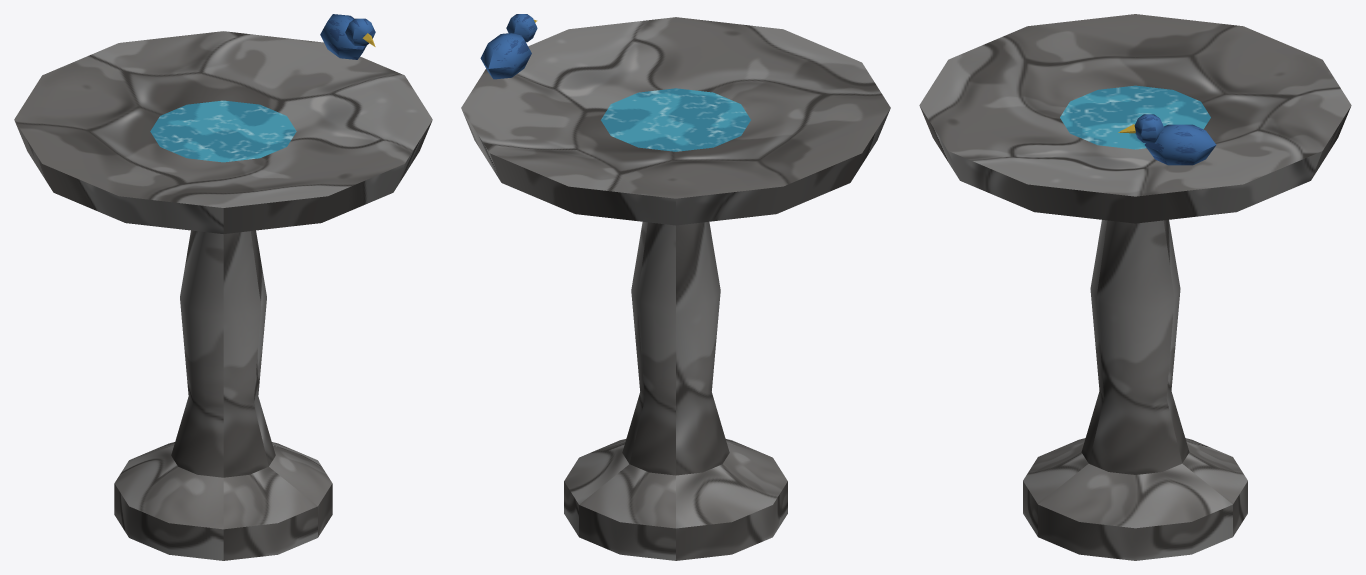
Rendered from bird_bath.glb.
The picture shows the model from 3 angles, left to right: view 1: azimuth 30°, elevation 25°; view 2: azimuth 150°, elevation 25°; view 3: azimuth 270°, elevation 25°; orthographic projection. The views are drawn at different scales.
Visible parts, largest first — view 1: Prop; view 2: Prop; view 3: Prop.
Boxes of the visible parts, x1,y1,x2,y2 form: Prop: [14, 14, 432, 560]; Prop: [461, 14, 890, 560]; Prop: [919, 14, 1351, 560].
Bounding box in the file's own units: 0.96 × 1.15 × 0.96.
Materials: 3 (3 with a texture image).
